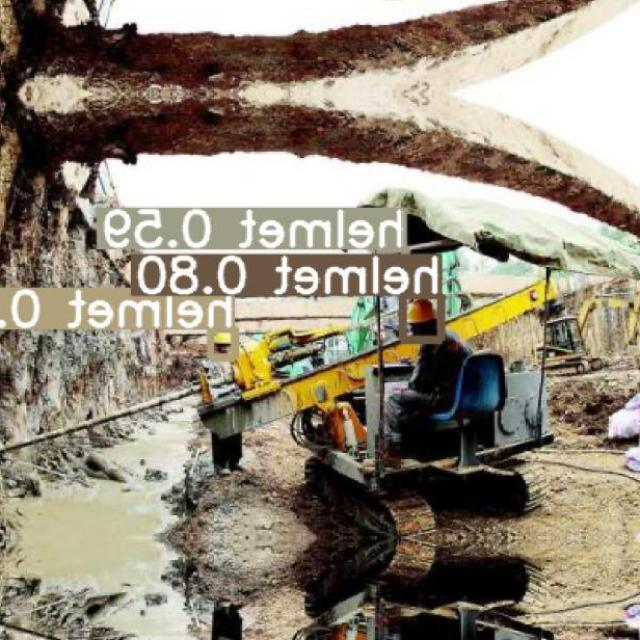helmet: (406, 298, 436, 323)
